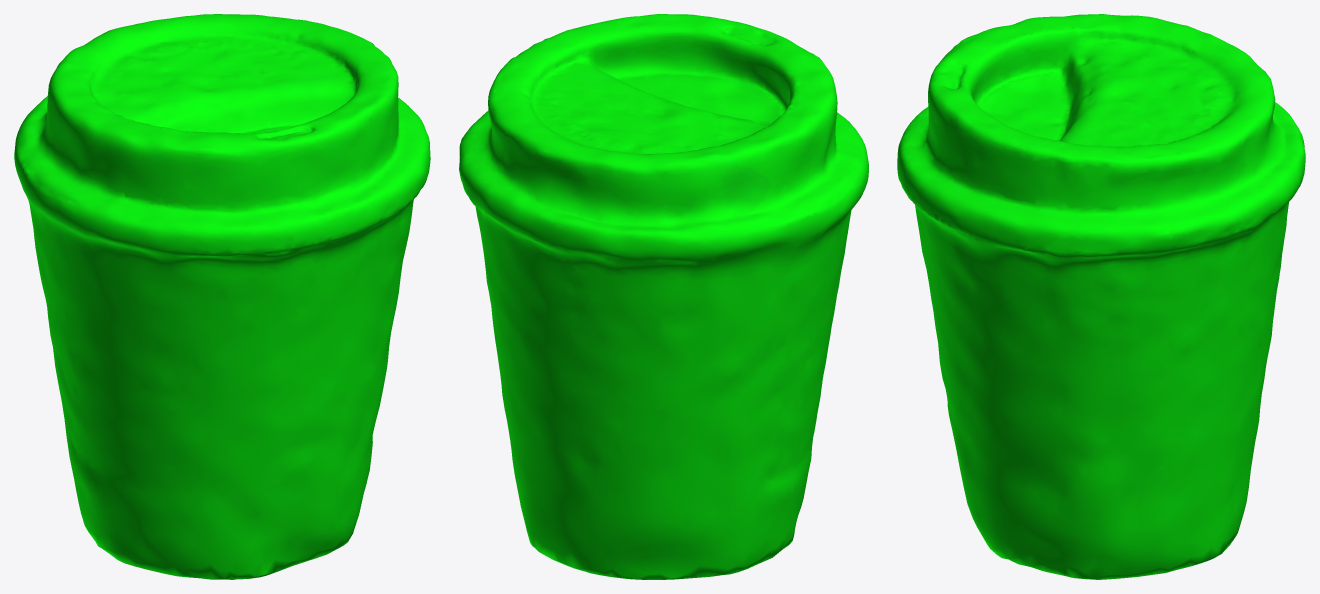
3 views of the same model, side by side, from view 1: azimuth 30°, elevation 25°; view 2: azimuth 150°, elevation 25°; view 3: azimuth 270°, elevation 25° (orthographic). The views are drawn at different scales.
Visible parts, largest first — view 1: Mesh_0; view 2: Mesh_0; view 3: Mesh_0.
Part boxes in pixels (box(x1,y1,x2,y2)): Mesh_0: box(14, 14, 430, 579); Mesh_0: box(459, 14, 868, 579); Mesh_0: box(897, 14, 1305, 579).
Bounding box in the file's own units: 0.0896 × 0.1068 × 0.0889.
Materials: 1 (1 with a texture image).
